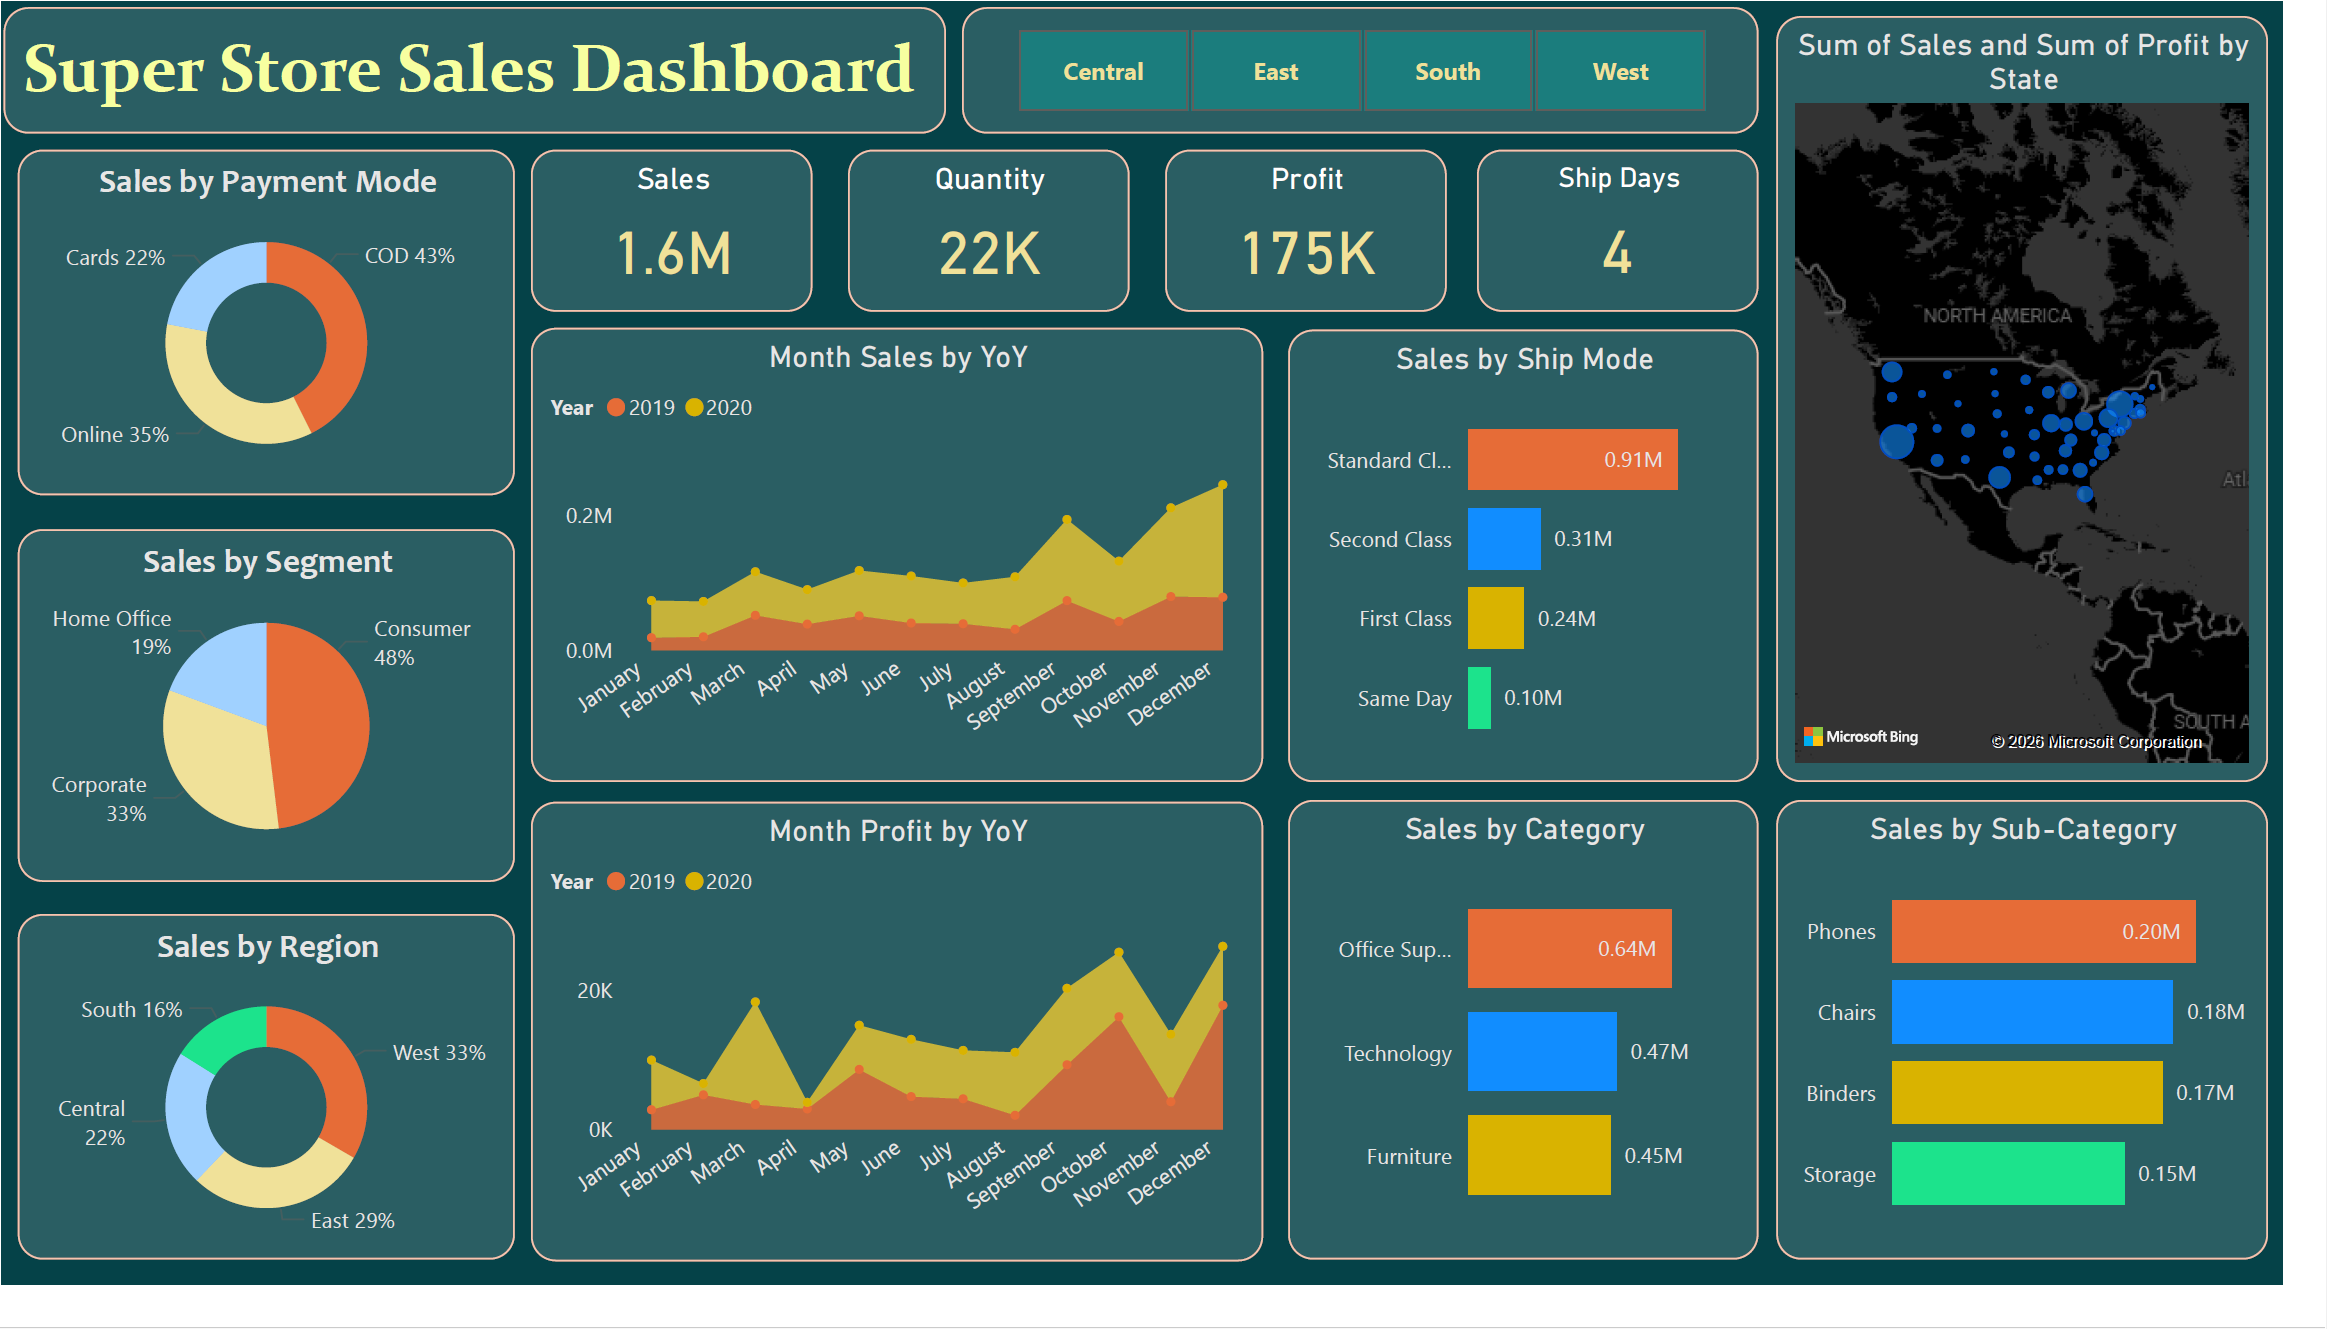

The page's visual inventory and layout, read from the dashboard file:
{"tool":"powerbi","page":{"name":"Dashboard","canvas":[1280,720],"ordinal":0},"visuals":[{"type":"clusteredBarChart","title":"Sales by Category","fields":{"Category":["SuperStore_Sales.Category"],"Y":["Sum(SuperStore_Sales.Sales)"]},"box":[721.7,448.4,264.6,257.8],"z":0},{"type":"clusteredBarChart","title":"Sales by Sub-Category","fields":{"Y":["Sum(SuperStore_Sales.Sales)"],"Category":["SuperStore_Sales.Sub-Category"]},"box":[996,448.4,276.2,257.8],"z":1000},{"type":"clusteredBarChart","title":"Sales by Ship Mode","fields":{"Y":["Sum(SuperStore_Sales.Sales)"],"Category":["SuperStore_Sales.Ship Mode"]},"box":[721.7,183.8,264.6,253.9],"z":2000},{"type":"stackedAreaChart","title":"Month Sales by YoY","fields":{"Category":["SuperStore_Sales.Order Date.Variation.Date Hierarchy.Month"],"Y":["Sum(SuperStore_Sales.Sales)"],"Series":["SuperStore_Sales.Order Date.Variation.Date Hierarchy.Year"]},"box":[296.7,182.9,411.4,254.8],"z":3000},{"type":"stackedAreaChart","title":"Month Profit by YoY","fields":{"Category":["SuperStore_Sales.Order Date.Variation.Date Hierarchy.Month"],"Series":["SuperStore_Sales.Order Date.Variation.Date Hierarchy.Year"],"Y":["Sum(SuperStore_Sales.Profit)"]},"box":[297,448.7,411.4,258],"z":4000},{"type":"map","fields":{"Category":["SuperStore_Sales.State"],"Size":["Sum(SuperStore_Sales.Sales)"]},"box":[995.8,8,276.7,430],"z":5000},{"type":"pieChart","title":"Sales by Segment","fields":{"Category":["SuperStore_Sales.Segment"],"Y":["Sum(SuperStore_Sales.Sales)"]},"box":[8.8,295.7,279.1,198.4],"z":6000},{"type":"donutChart","title":"Sales by Payment Mode","fields":{"Y":["Sum(SuperStore_Sales.Sales)"],"Category":["SuperStore_Sales.Payment Mode"]},"box":[8.8,82.7,279.1,194.5],"z":7000},{"type":"slicer","fields":{"Values":["SuperStore_Sales.Region"]},"box":[538.8,2.9,447.4,71],"z":8000},{"type":"textbox","box":[1,2.9,529.1,71],"z":9000},{"type":"donutChart","title":"Sales by Region","fields":{"Y":["Sum(SuperStore_Sales.Sales)"],"Category":["SuperStore_Sales.Region"]},"box":[8.8,511.6,279.1,194.5],"z":10000},{"type":"card","title":"Sales","fields":{"Values":["Sum(SuperStore_Sales.Sales)"]},"box":[296.7,82.7,158.5,91.4],"z":11000},{"type":"card","title":"Profit","fields":{"Values":["Sum(SuperStore_Sales.Profit)"]},"box":[652.6,82.7,158.5,91.4],"z":12000},{"type":"card","title":"Quantity","fields":{"Values":["Sum(SuperStore_Sales.Quantity)"]},"box":[474.7,82.7,158.5,91.4],"z":13000},{"type":"card","title":"Ship Days","fields":{"Values":["Avg(SuperStore_Sales.AvgDelivery)"]},"box":[827.7,82.7,158.5,91.4],"z":14000}]}

Visuals, with their boxes in screenshot pixels (x1, y1, x2, y2), scaled from the page's 1280x720 canvas onto the 2327x1329 screenshot:
"Sales by Category" clusteredBarChart: {"left": 1312, "top": 828, "right": 1793, "bottom": 1304}
"Sales by Sub-Category" clusteredBarChart: {"left": 1811, "top": 828, "right": 2313, "bottom": 1304}
"Sales by Ship Mode" clusteredBarChart: {"left": 1312, "top": 339, "right": 1793, "bottom": 808}
"Month Sales by YoY" stackedAreaChart: {"left": 539, "top": 338, "right": 1287, "bottom": 808}
"Month Profit by YoY" stackedAreaChart: {"left": 540, "top": 828, "right": 1288, "bottom": 1304}
map - SuperStore_Sales.State x Sum(SuperStore_Sales.Sales): {"left": 1810, "top": 15, "right": 2313, "bottom": 808}
"Sales by Segment" pieChart: {"left": 16, "top": 546, "right": 523, "bottom": 912}
"Sales by Payment Mode" donutChart: {"left": 16, "top": 153, "right": 523, "bottom": 512}
slicer - SuperStore_Sales.Region: {"left": 980, "top": 5, "right": 1793, "bottom": 136}
textbox: {"left": 2, "top": 5, "right": 964, "bottom": 136}
"Sales by Region" donutChart: {"left": 16, "top": 944, "right": 523, "bottom": 1303}
"Sales" card: {"left": 539, "top": 153, "right": 828, "bottom": 321}
"Profit" card: {"left": 1186, "top": 153, "right": 1475, "bottom": 321}
"Quantity" card: {"left": 863, "top": 153, "right": 1151, "bottom": 321}
"Ship Days" card: {"left": 1505, "top": 153, "right": 1793, "bottom": 321}
